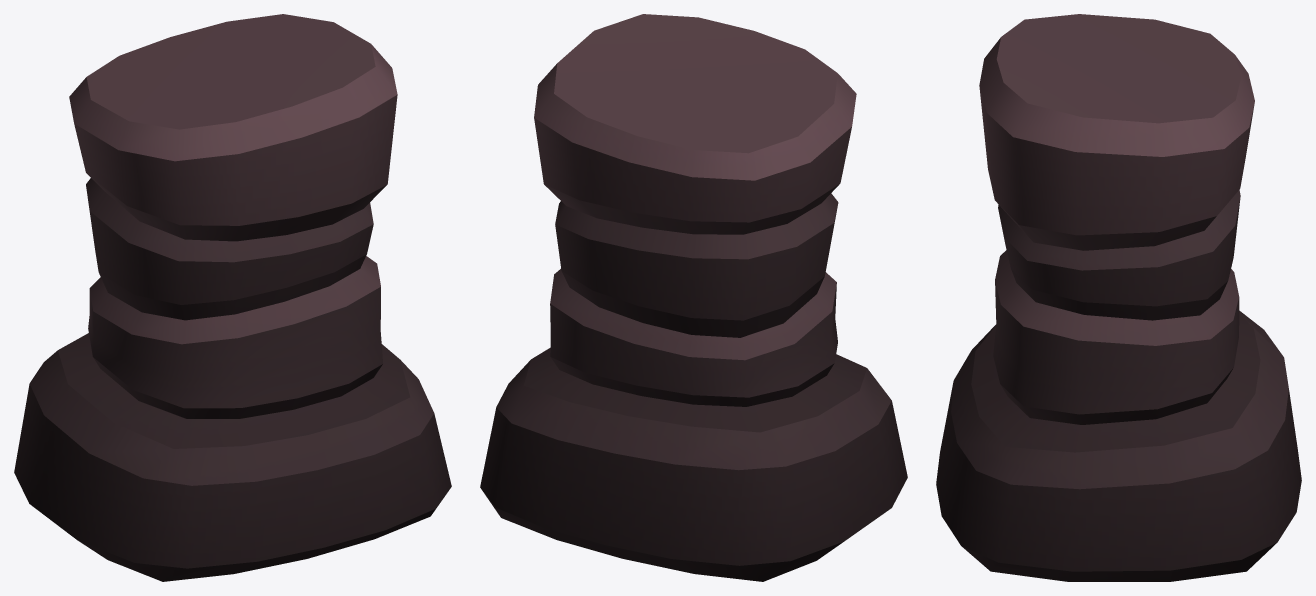
Rendered from rock_big_B_dark_4.glb.
3 views of the same model, side by side, from view 1: azimuth 30°, elevation 25°; view 2: azimuth 150°, elevation 25°; view 3: azimuth 270°, elevation 25° (orthographic). The views are drawn at different scales.
Visible parts, largest first — view 1: rock_big_B_dark_4; view 2: rock_big_B_dark_4; view 3: rock_big_B_dark_4.
Boxes of the visible parts, x1,y1,x2,y2 form: rock_big_B_dark_4: [14, 14, 451, 581]; rock_big_B_dark_4: [480, 14, 907, 581]; rock_big_B_dark_4: [936, 14, 1301, 581].
Bounding box in the file's own units: 5.32 × 6.37 × 4.65.
1 material, 1 textured.
